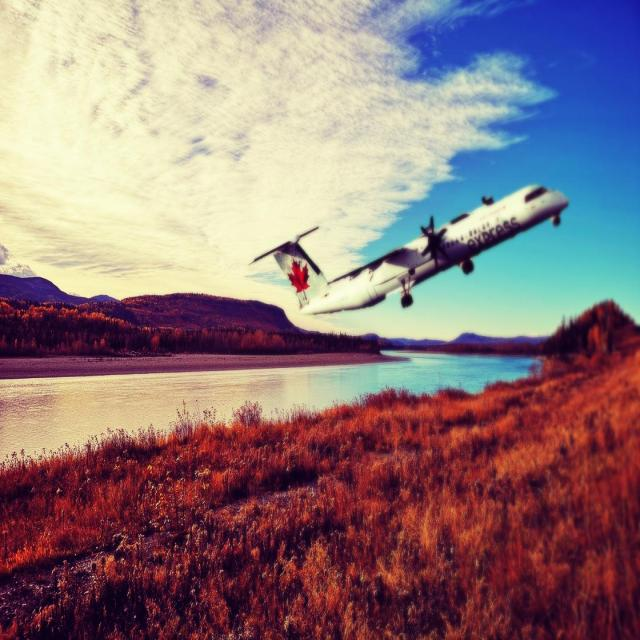airplane: (246, 182, 569, 332)
